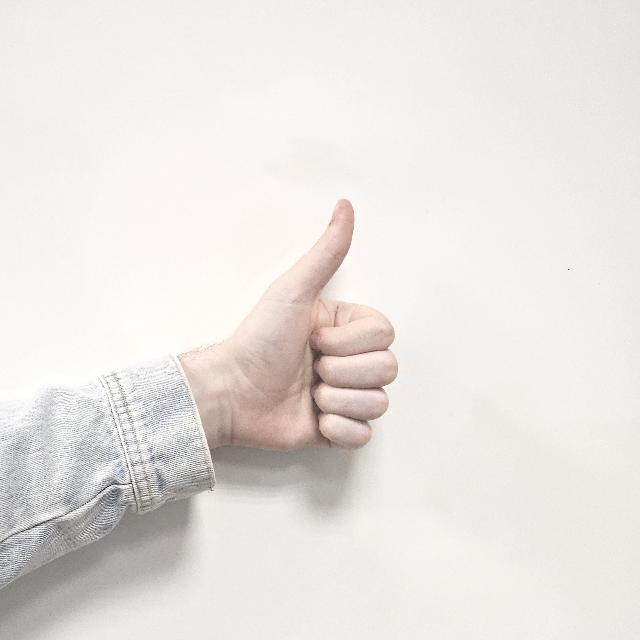Start: (194, 195, 396, 472)
